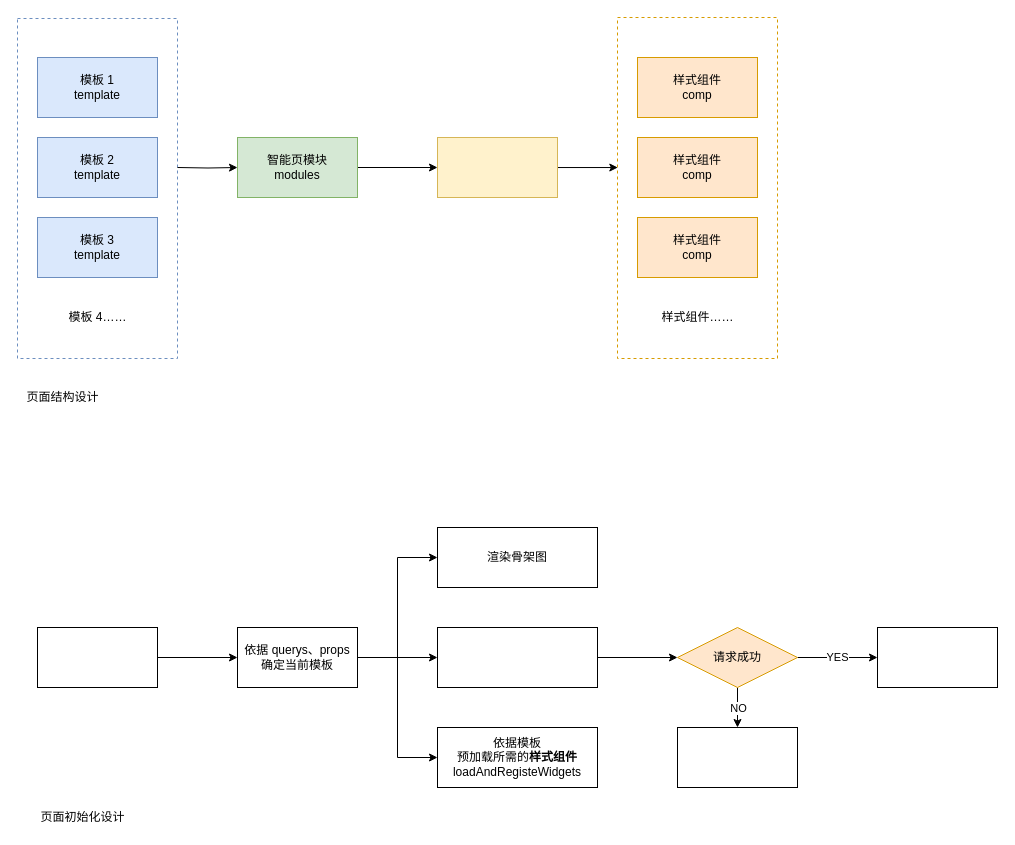
The diagram is 1015 pixels wide and 845 high, and some of its shapes have lost their labels. Here are the shapes that lost their labels. From the top down, the box of each, then its label:
(436, 136, 558, 198): 样式 2 mold
(36, 626, 158, 688): 初始化
(436, 626, 598, 688): 请求 接口 获取物料
(876, 626, 998, 688): 渲染对应的模板
(676, 726, 798, 788): 渲染兜底样式
